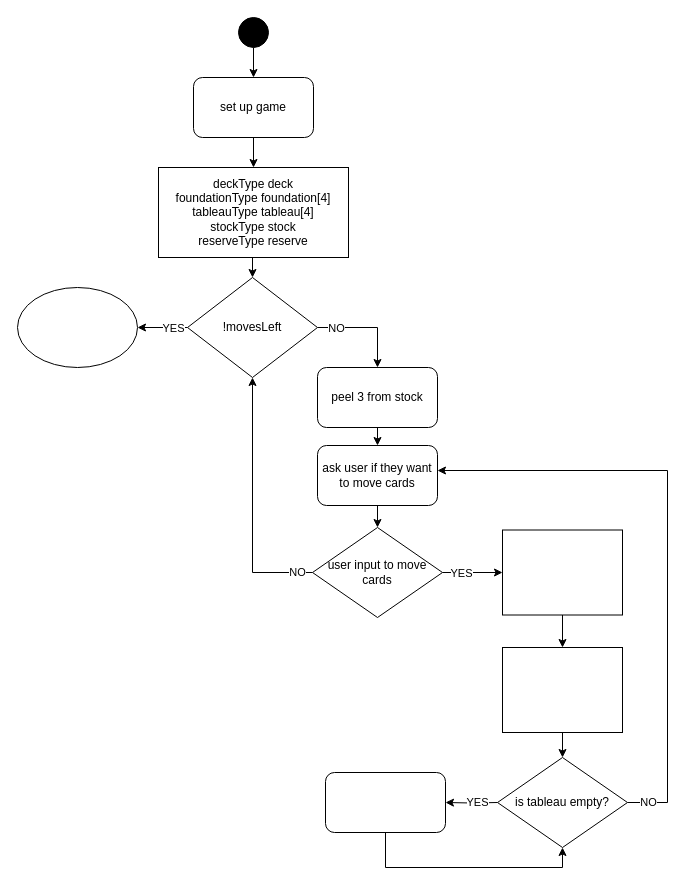
Image size: 693x893. Some labels were removed from this diagram. The centre of each missing label's shape, as x and y in pixels:
"deliver to: foundation[1-4] tableau[1-4] reserve stock" goes at pixel 562 689.
"End Game" goes at pixel 77 327.
"fill empty with reserve top card" goes at pixel 385 802.
"pick from: foundation[1-4] tableau[1-4] reserve stock" goes at pixel 562 572.
